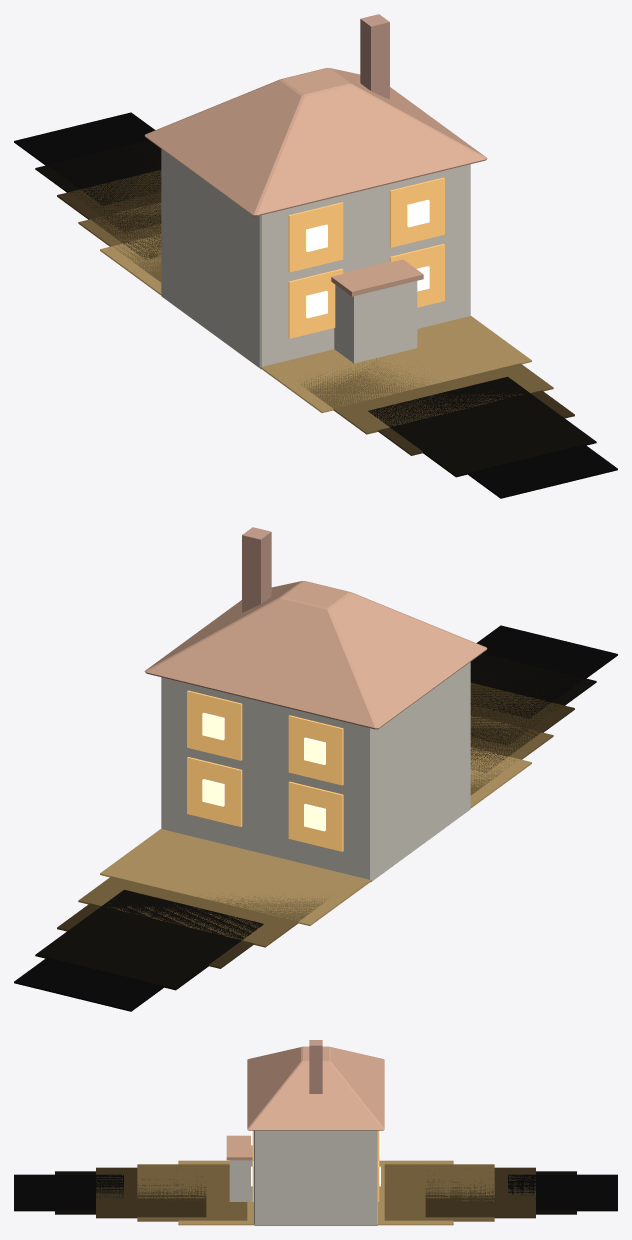
The model's file is town_villa_large.glb.
3 renders of one model, top to bottom at view 1: azimuth 30°, elevation 25°; view 2: azimuth 150°, elevation 25°; view 3: azimuth 270°, elevation 25°, orthographic. The views are drawn at different scales.
Parts seen in each view (by area): view 1: town_villa_large; view 2: town_villa_large; view 3: town_villa_large.
Part boxes in pixels (x1,y1,x2,y2): town_villa_large: (14,14,617,498); town_villa_large: (14,527,617,1011); town_villa_large: (14,1040,617,1225).
Bounding box in the file's own units: 0.844 × 0.9411 × 3.04.
